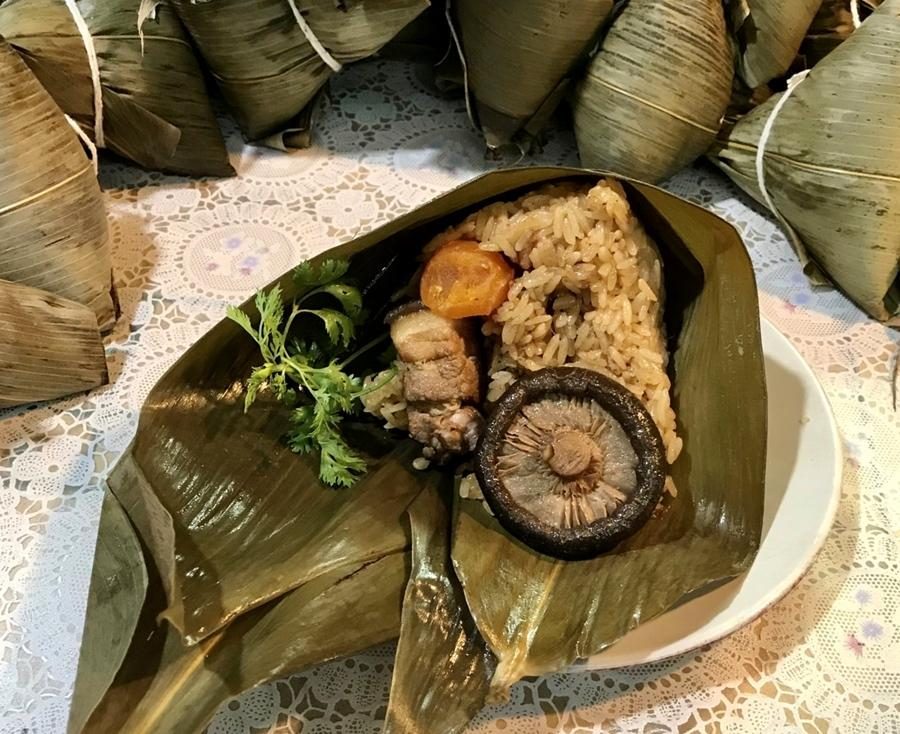zongzi: (362, 178, 681, 556), (713, 0, 899, 325), (0, 0, 233, 175), (169, 0, 428, 147), (0, 37, 114, 336), (572, 0, 732, 182), (448, 0, 612, 148)
